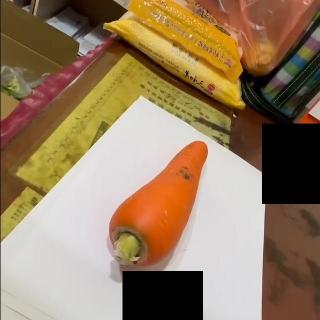carrot: (107, 140, 209, 268)
